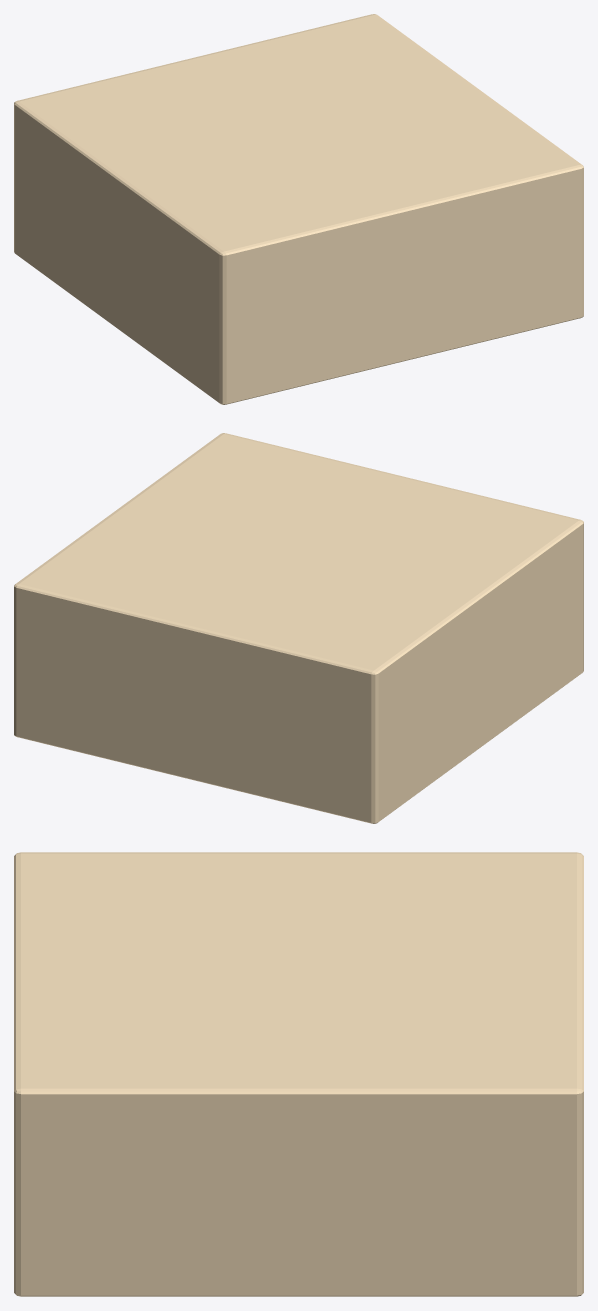
The model's file is toys_wood block_large.fbx.
3 views of the same model, one above another, from view 1: azimuth 30°, elevation 25°; view 2: azimuth 150°, elevation 25°; view 3: azimuth 270°, elevation 25° (orthographic). The views are drawn at different scales.
Visible parts, largest first — view 1: Cube.002; view 2: Cube.002; view 3: Cube.002.
Part boxes in pixels (x1,y1,x2,y2): Cube.002: (14, 14, 583, 404); Cube.002: (14, 433, 583, 823); Cube.002: (14, 852, 583, 1296).
Size of the model in its own units: 200 by 80 by 200.
